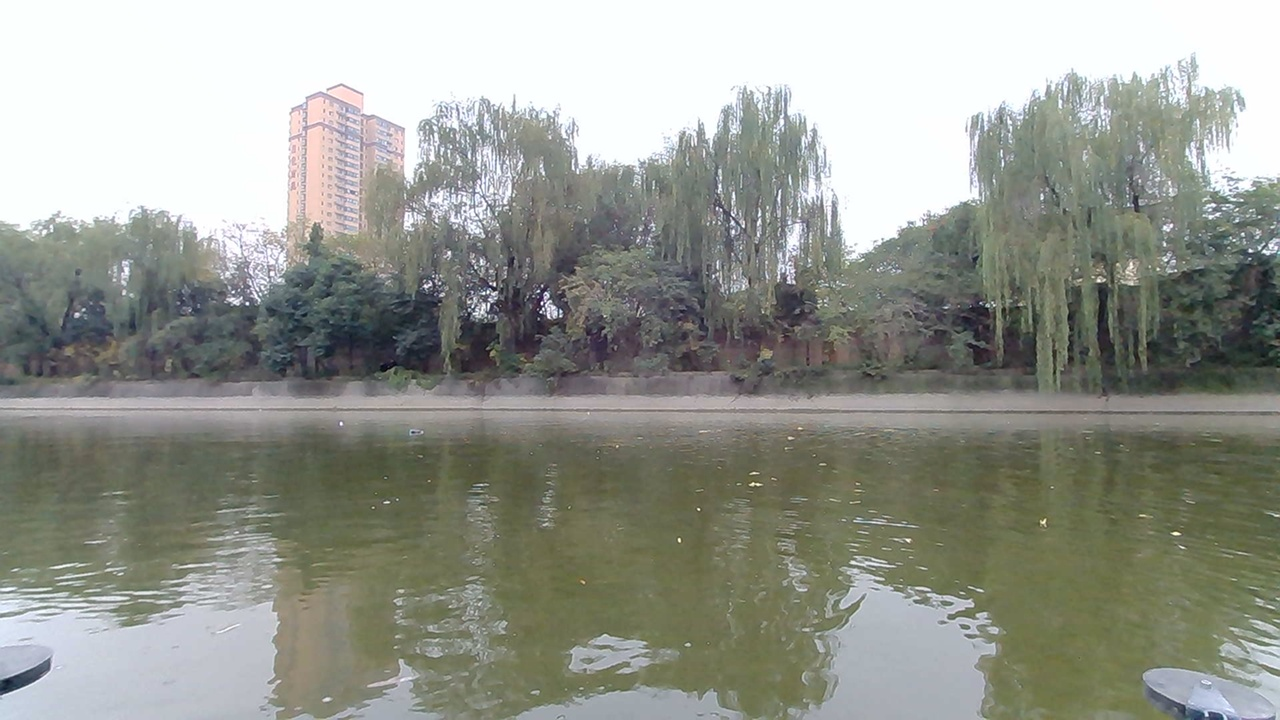bottle: (399, 423, 437, 443)
